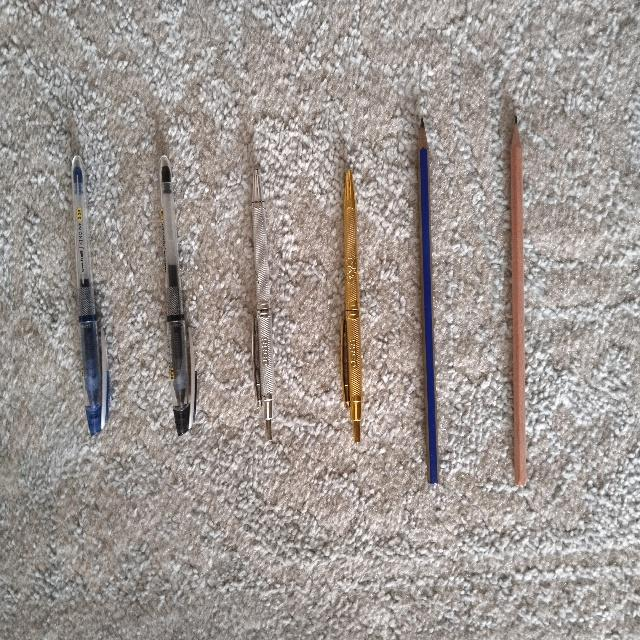pen: (72, 156, 108, 435), (161, 156, 196, 434)
pencil: (418, 119, 438, 483), (510, 116, 525, 485)
signature pen: (341, 170, 362, 441), (252, 170, 273, 439)
